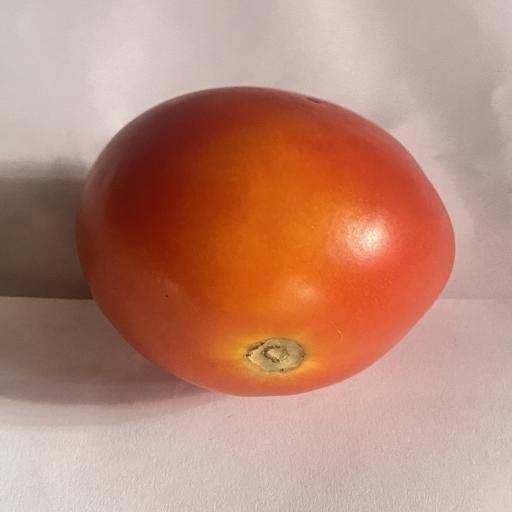ripe: (77, 87, 454, 396)
